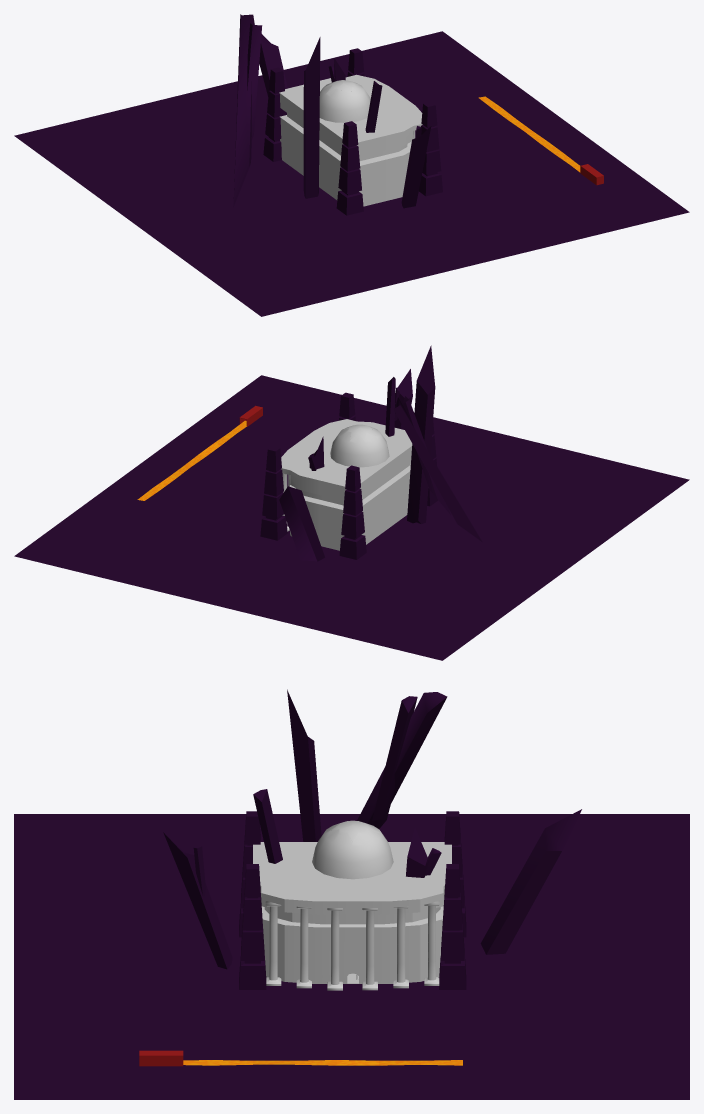
Rendered from LVL4_Temple.fbx.
The picture shows the model from 3 angles, top to bottom: view 1: azimuth 30°, elevation 25°; view 2: azimuth 150°, elevation 25°; view 3: azimuth 270°, elevation 25°; orthographic projection. The views are drawn at different scales.
Parts seen in each view (by area): view 1: CaveFloor, Temple, Rocks, GiantPillars, DomeBreak, Boss Lava; view 2: CaveFloor, Temple, Rocks, GiantPillars, DomeBreak, Boss Lava; view 3: CaveFloor, Temple, Rocks, GiantPillars, OutsidePillars, DomeBreak, Boss Lava, Lavacave.
Boxes of the visible parts, x1,y1,x2,y2 form: CaveFloor: (14,31,689,316); Temple: (279,74,422,206); Rocks: (233,14,431,208); GiantPillars: (263,48,442,215); DomeBreak: (319,81,370,122); Boss Lava: (478,96,580,172); CaveFloor: (14,375,689,660); Temple: (281,419,412,550); Rocks: (279,345,482,561); GiantPillars: (260,392,438,559); DomeBreak: (330,426,389,467); Boss Lava: (137,420,246,500); CaveFloor: (14,814,689,1099); Temple: (253,842,451,983); Rocks: (163,689,581,969); GiantPillars: (239,811,466,989); OutsidePillars: (265,901,439,990); DomeBreak: (312,823,393,879); Boss Lava: (183,1060,462,1065); Lavacave: (139,1050,183,1066).
Bounding box in the file's own units: 431118 × 178234 × 431118.
